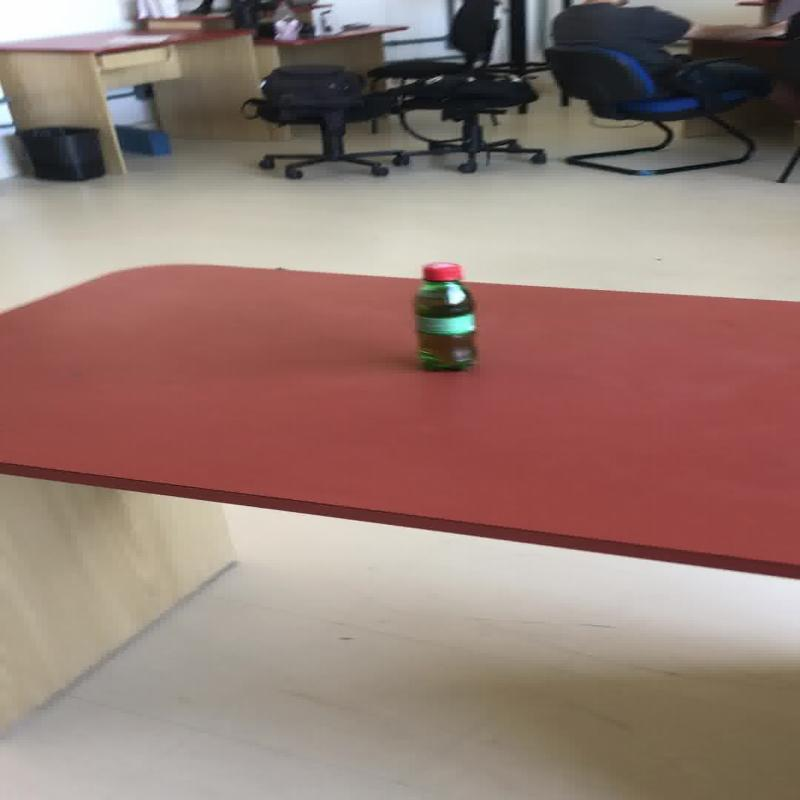guarana: (412, 260, 478, 372)
